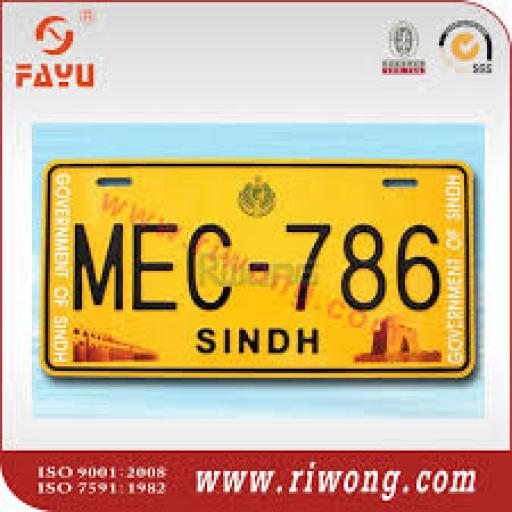6: (392, 220, 445, 312)
7: (282, 213, 337, 316)
8: (341, 223, 388, 314)
C: (192, 226, 234, 316)
E: (132, 220, 179, 319)
M: (71, 215, 126, 310)
